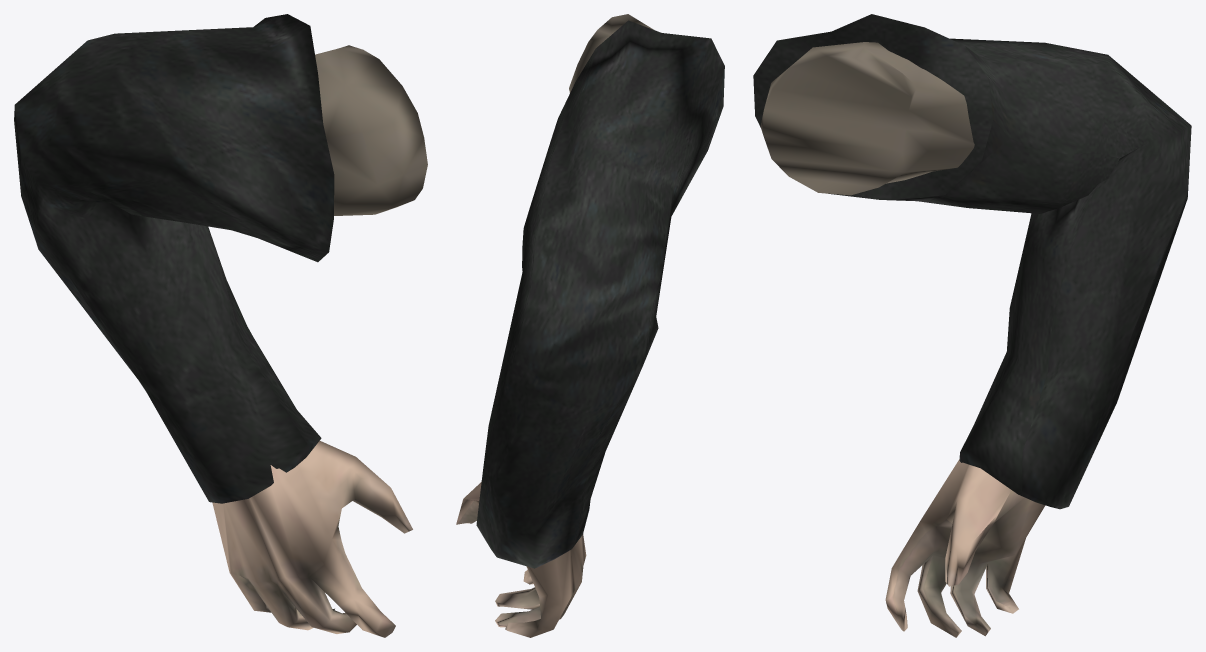
The model's file is dest_nt_nuked_male_03_arm_right_LOD1.obj.
The picture shows the model from 3 angles, left to right: view 1: azimuth 30°, elevation 25°; view 2: azimuth 150°, elevation 25°; view 3: azimuth 270°, elevation 25°; orthographic projection. The views are drawn at different scales.
Visible parts, largest first — view 1: mtl_nt_2020_manne_male01_jacket1, mtl_nt_2020_manne_male01_head1; view 2: mtl_nt_2020_manne_male01_jacket1, mtl_nt_2020_manne_male01_head1; view 3: mtl_nt_2020_manne_male01_jacket1, mtl_nt_2020_manne_male01_head1.
Boxes of the visible parts, x1,y1,x2,y2 form: mtl_nt_2020_manne_male01_jacket1: [14, 14, 334, 503]; mtl_nt_2020_manne_male01_head1: [212, 45, 427, 637]; mtl_nt_2020_manne_male01_jacket1: [476, 20, 724, 568]; mtl_nt_2020_manne_male01_head1: [456, 14, 653, 637]; mtl_nt_2020_manne_male01_jacket1: [753, 14, 1191, 509]; mtl_nt_2020_manne_male01_head1: [760, 42, 1045, 637].
Bounding box in the file's own units: 25.67 × 53.14 × 35.95.
